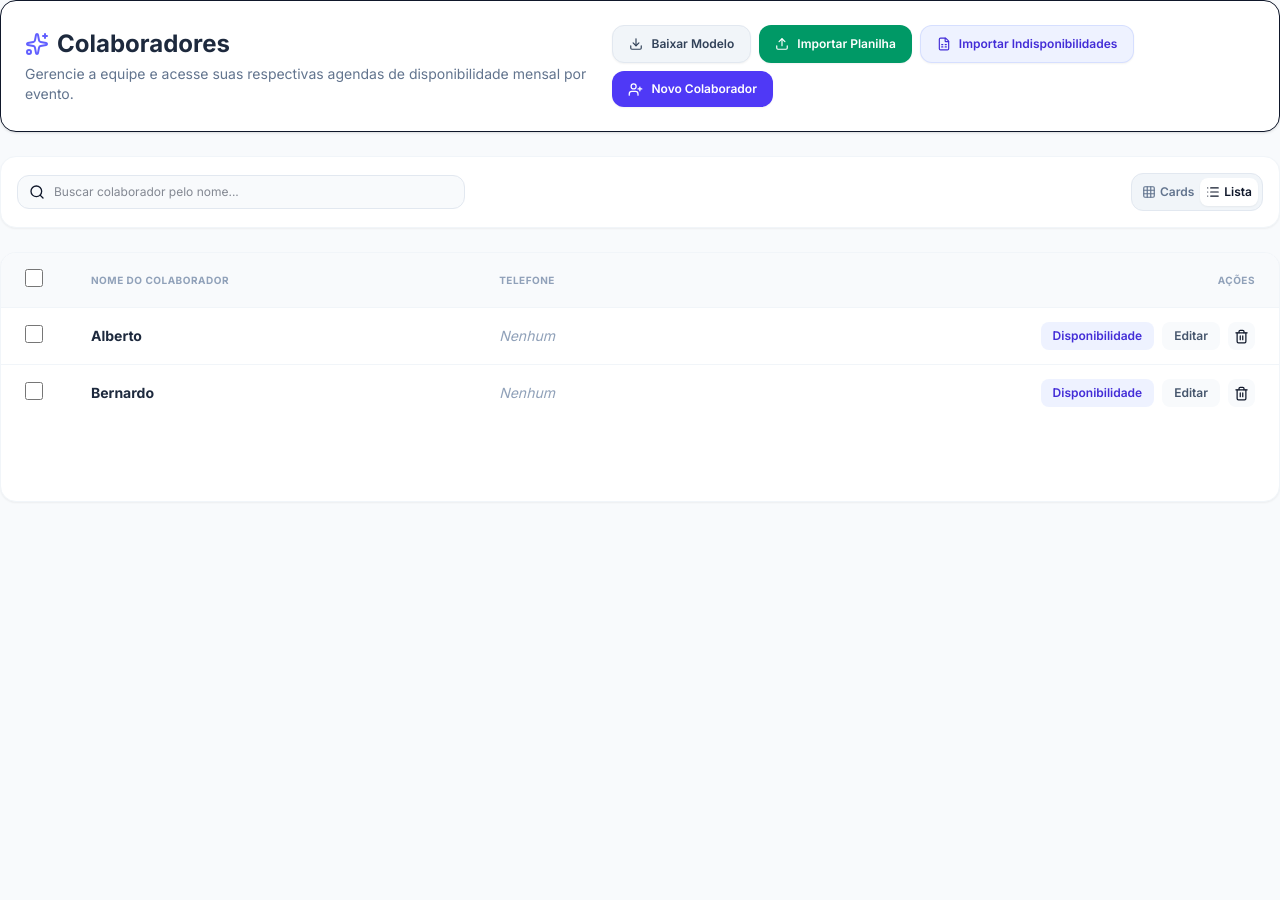
Scenario: Colaboradores Component › deve exibir a barra flutuante de acoes em lote ao selecionar multiplos colaboradores
Click the checkbox next to "Nome do Colaborador" at x=34, y=278, box top-left (25, 269), bottom-right (43, 287)
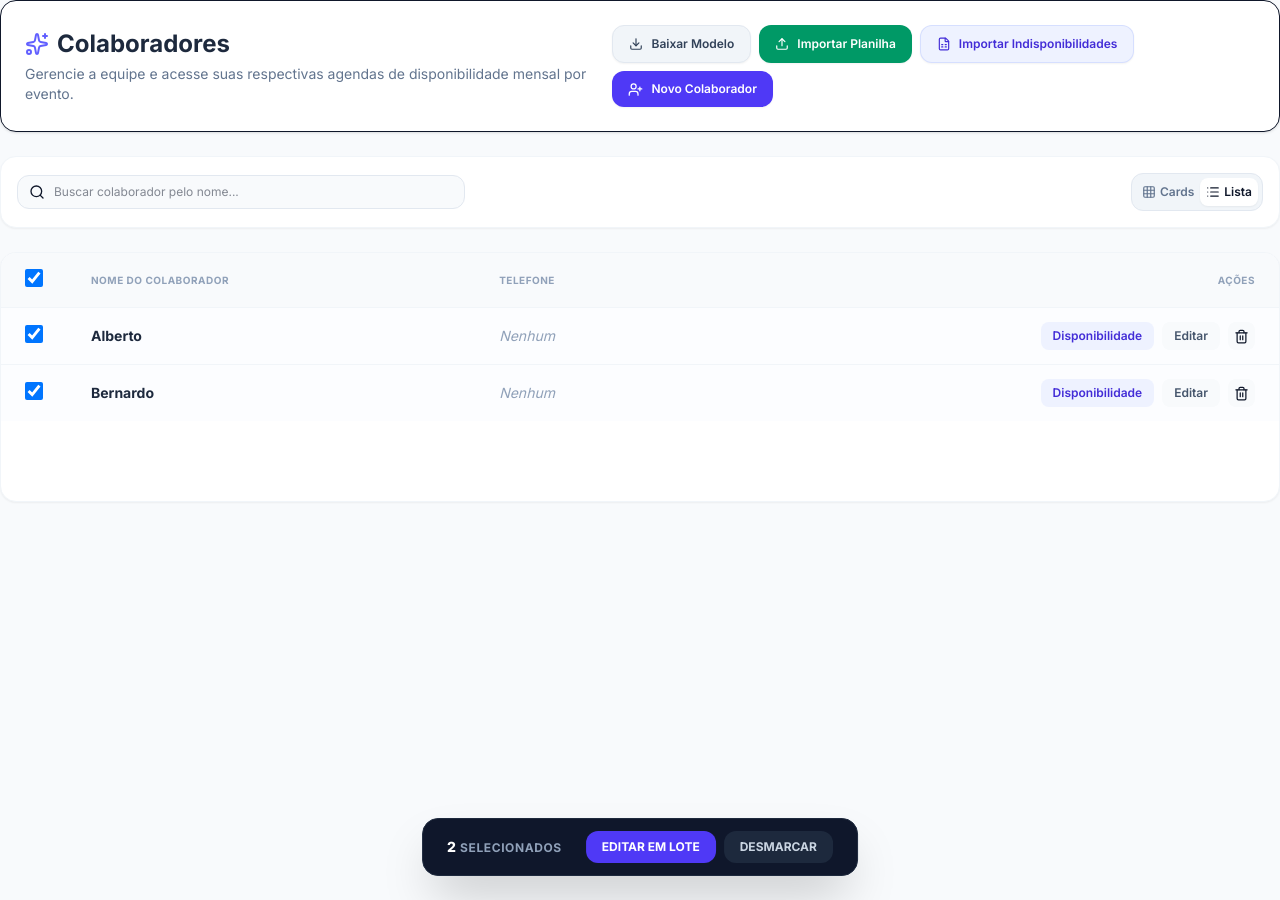
Expected: the text "2 selecionados" is shown, top-left (447, 837), bottom-right (562, 857)
Expected: the text "2" is shown, top-left (447, 838), bottom-right (457, 855)
Expected: the button "Editar em Lote" is shown, top-left (586, 831), bottom-right (716, 863)
